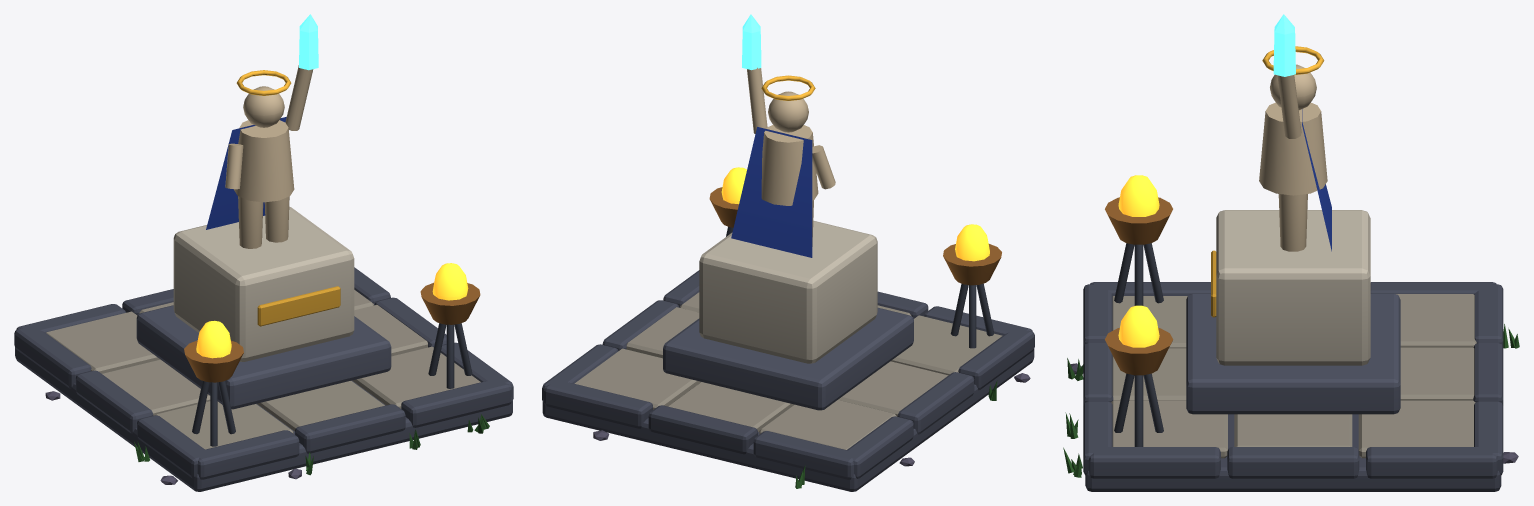
The model's file is founder_statue.glb.
The picture shows the model from 3 angles, left to right: view 1: azimuth 30°, elevation 25°; view 2: azimuth 150°, elevation 25°; view 3: azimuth 270°, elevation 25°; orthographic projection. The views are drawn at different scales.
Parts seen in each view (by area): view 1: t0_marble, t0_stone_dark, t0_stone_warm, t1_bronze, t1_iron, t0_gold, t0_cloth_blue, flame0_t1_bob2_flame, flame1_t1_bob2_flame, t0_crystal, t0_moss, t2_gold; view 2: t0_marble, t0_stone_dark, t0_stone_warm, t0_cloth_blue, t1_bronze, t1_iron, flame0_t1_bob2_flame, t0_crystal, flame1_t1_bob2_flame, t2_gold; view 3: t0_marble, t0_stone_dark, t0_stone_warm, t1_bronze, t1_iron, flame1_t1_bob2_flame, flame0_t1_bob2_flame, t0_crystal, t0_moss, t0_cloth_blue, t2_gold.
Part boxes in pixels (bbox=[...]): t0_marble: bbox=[46, 206, 480, 449]; t0_stone_dark: bbox=[14, 267, 513, 491]; t0_stone_warm: bbox=[225, 65, 313, 248]; t1_bronze: bbox=[184, 282, 480, 382]; t1_iron: bbox=[192, 323, 472, 446]; t0_gold: bbox=[257, 286, 340, 326]; t0_cloth_blue: bbox=[206, 117, 286, 229]; flame0_t1_bob2_flame: bbox=[196, 320, 231, 358]; flame1_t1_bob2_flame: bbox=[432, 263, 468, 300]; t0_crystal: bbox=[299, 14, 318, 70]; t0_moss: bbox=[134, 414, 489, 475]; t2_gold: bbox=[236, 70, 291, 95]; t0_marble: bbox=[574, 220, 1002, 449]; t0_stone_dark: bbox=[542, 270, 1034, 491]; t0_stone_warm: bbox=[747, 67, 835, 246]; t0_cloth_blue: bbox=[731, 127, 812, 257]; t1_bronze: bbox=[709, 187, 1001, 285]; t1_iron: bbox=[726, 226, 994, 348]; flame0_t1_bob2_flame: bbox=[955, 224, 989, 261]; t0_crystal: bbox=[742, 14, 761, 70]; flame1_t1_bob2_flame: bbox=[721, 167, 746, 204]; t2_gold: bbox=[761, 75, 815, 100]; t0_marble: bbox=[1111, 210, 1476, 458]; t0_stone_dark: bbox=[1083, 282, 1503, 491]; t0_stone_warm: bbox=[1259, 64, 1327, 251]; t1_bronze: bbox=[1105, 197, 1173, 375]; t1_iron: bbox=[1114, 243, 1163, 446]; flame1_t1_bob2_flame: bbox=[1118, 305, 1159, 347]; flame0_t1_bob2_flame: bbox=[1118, 175, 1159, 216]; t0_crystal: bbox=[1273, 14, 1295, 76]; t0_moss: bbox=[1063, 324, 1519, 477]; t0_cloth_blue: bbox=[1302, 109, 1331, 251]; t2_gold: bbox=[1262, 46, 1324, 74].
Size of the model in its own units: 2.04 by 2.15 by 2.13.
